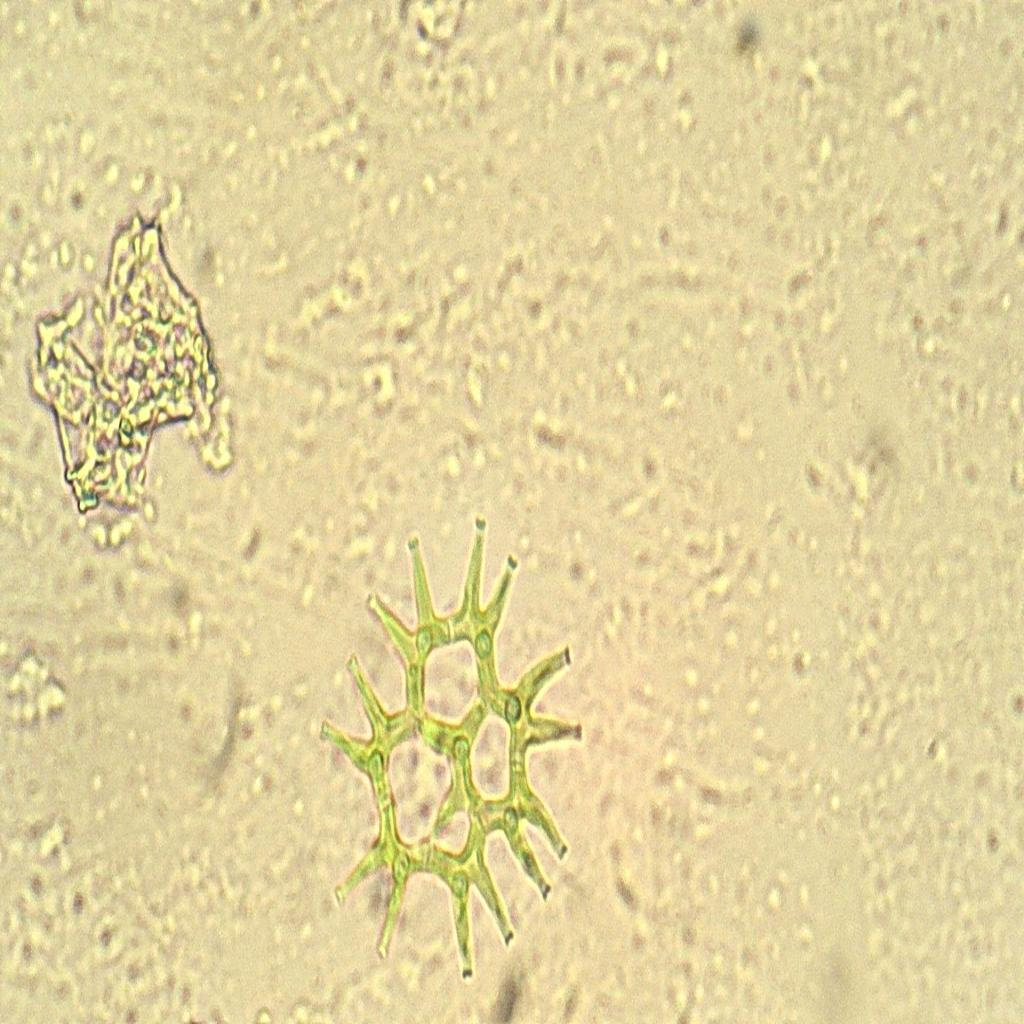Pediastrum_75T: (314, 504, 590, 1007)
